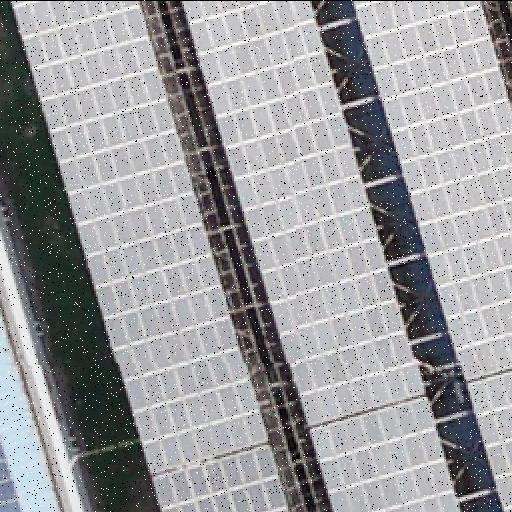solar-panel: (179, 0, 461, 512), (9, 0, 287, 512), (352, 0, 512, 512), (1, 441, 23, 511)
